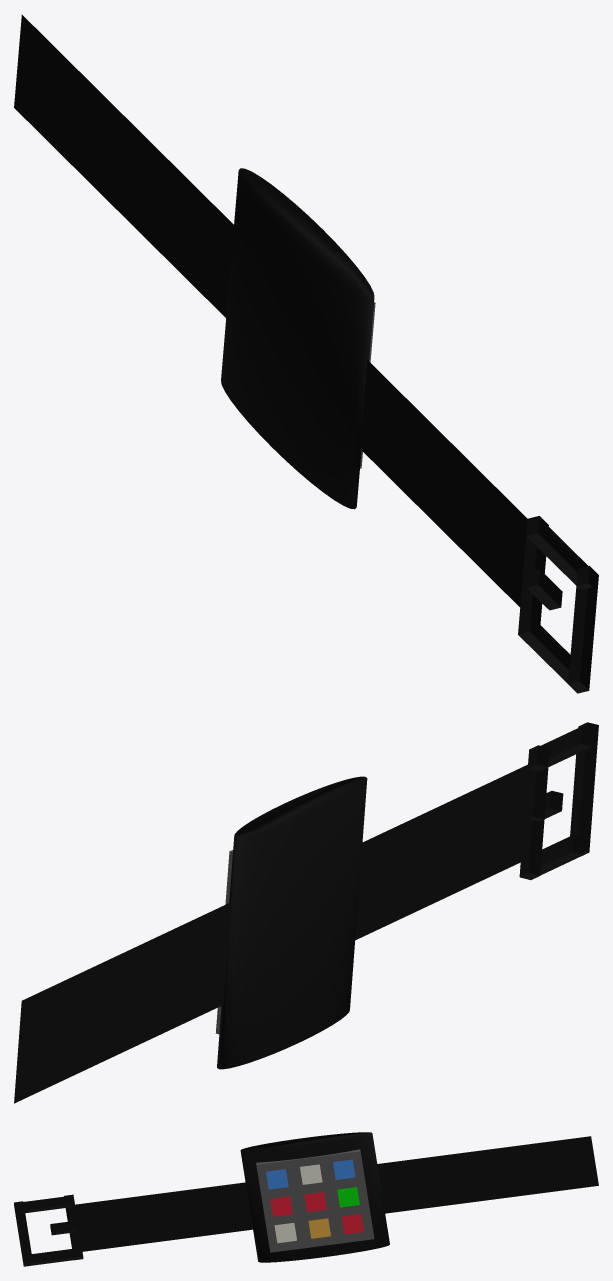
Rendered from prot.gltf.
The picture shows the model from 3 angles, top to bottom: view 1: azimuth 30°, elevation 25°; view 2: azimuth 150°, elevation 25°; view 3: azimuth 270°, elevation 25°; orthographic projection. The views are drawn at different scales.
Parts seen in each view (by area): view 1: smartwatch dodai; view 2: smartwatch dodai; view 3: smartwatch dodai.
Part boxes in pixels (<box>): smartwatch dodai: <box>14,15,598,693</box>; smartwatch dodai: <box>14,722,598,1103</box>; smartwatch dodai: <box>14,1132,598,1266</box>.
Bounding box in the file's own units: 0.0735 × 0.5295 × 2.1.
